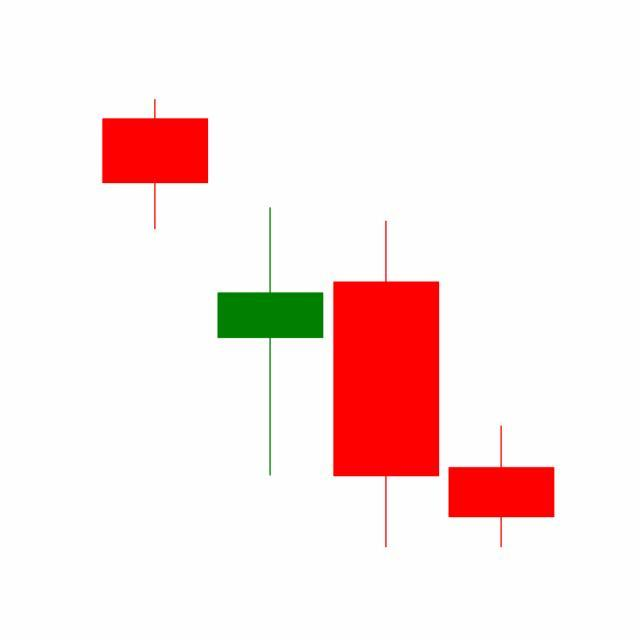Three Outside Up-Down: (211, 203, 555, 549)
